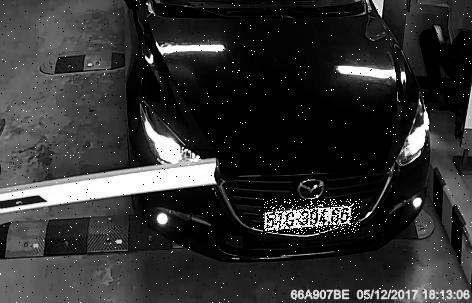License-plate: (265, 200, 362, 235)
